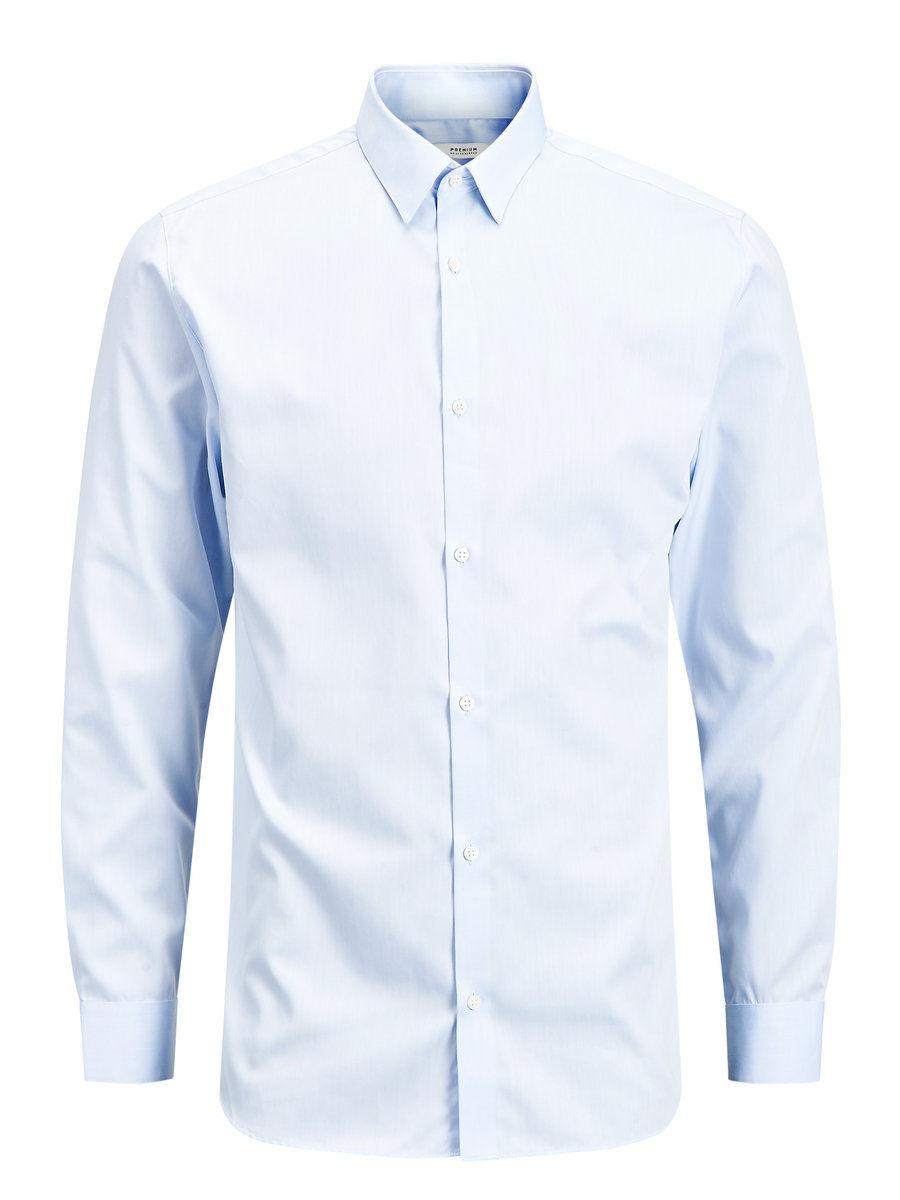teeshirt: (51, 53, 856, 1176)
